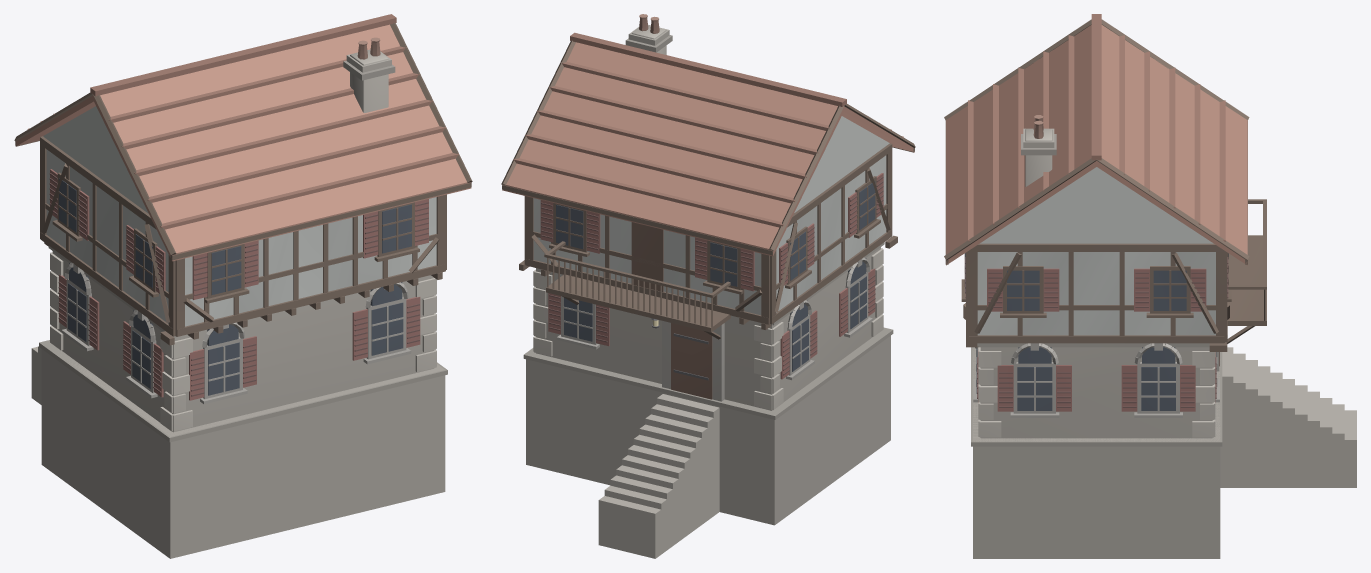
The model's file is house_1_3.gltf.
3 views of the same model, side by side, from view 1: azimuth 30°, elevation 25°; view 2: azimuth 150°, elevation 25°; view 3: azimuth 270°, elevation 25° (orthographic). The views are drawn at different scales.
Visible parts, largest first — view 1: Body; view 2: Body; view 3: Body.
Part boxes in pixels (x1,y1,x2,y2): Body: (14, 14, 472, 558); Body: (501, 14, 915, 558); Body: (944, 14, 1356, 558).
Bounding box in the file's own units: 8.67 × 11.97 × 10.68.
